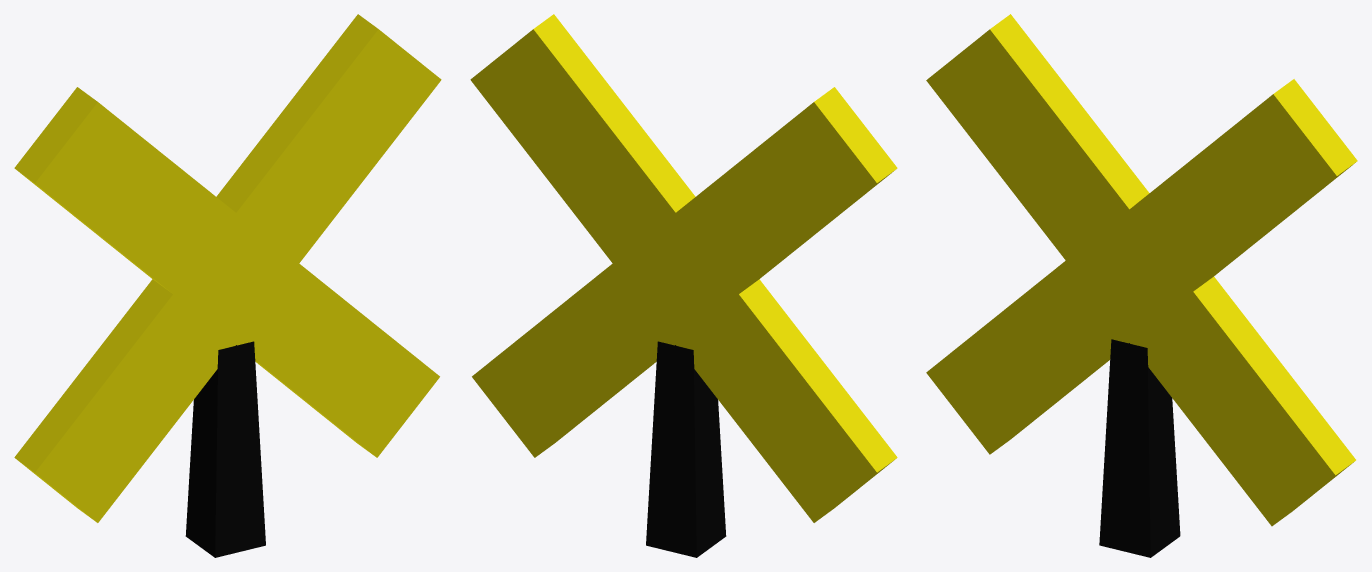
File: докторин.fbx
3 renders of one model, left to right at view 1: azimuth 30°, elevation 25°; view 2: azimuth 150°, elevation 25°; view 3: azimuth 330°, elevation 25°, orthographic.
Parts seen in each view (by area): view 1: Cube.001, Cube; view 2: Cube.001, Cube; view 3: Cube.001, Cube.
Part boxes in pixels (bbox=[...]): Cube.001: bbox=[14, 14, 441, 522]; Cube: bbox=[185, 341, 265, 557]; Cube.001: bbox=[470, 14, 897, 522]; Cube: bbox=[646, 341, 726, 557]; Cube.001: bbox=[926, 14, 1357, 526]; Cube: bbox=[1099, 339, 1180, 557].
Bounding box in the file's own units: 290 × 330 × 36.26.
